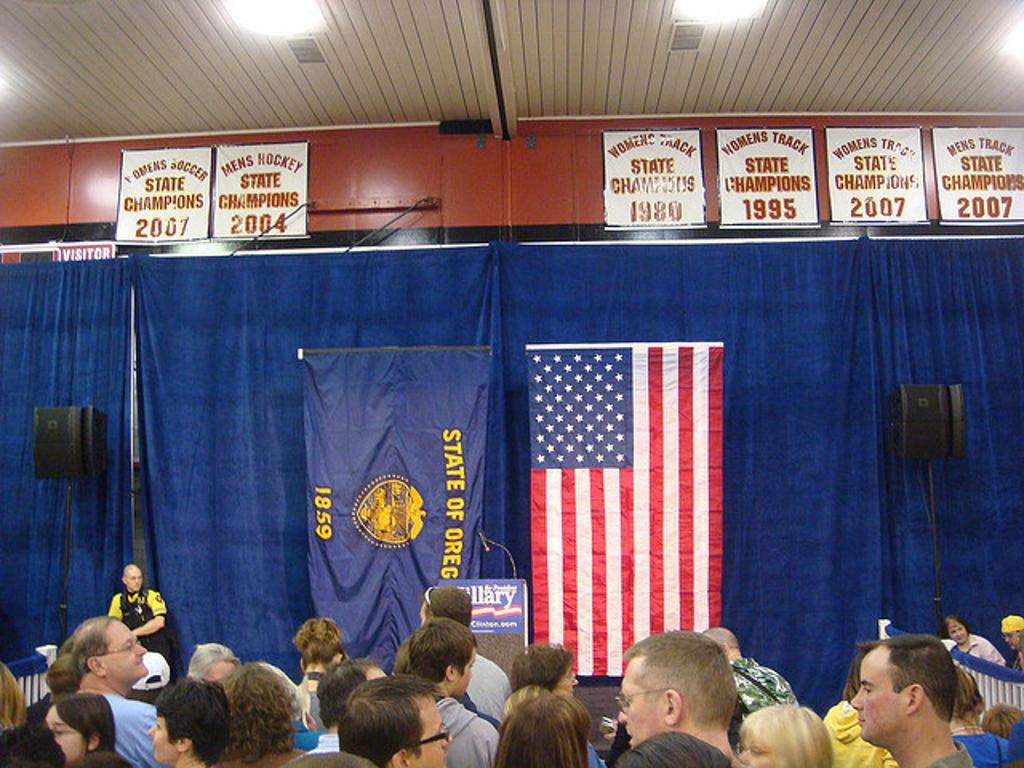face: (619, 673, 675, 756), (851, 664, 909, 741), (400, 709, 452, 768), (42, 716, 87, 768), (101, 630, 149, 677), (148, 714, 179, 762), (743, 735, 784, 768), (448, 653, 477, 695), (551, 667, 579, 703), (949, 626, 967, 645), (127, 572, 143, 592), (1004, 630, 1020, 649)
